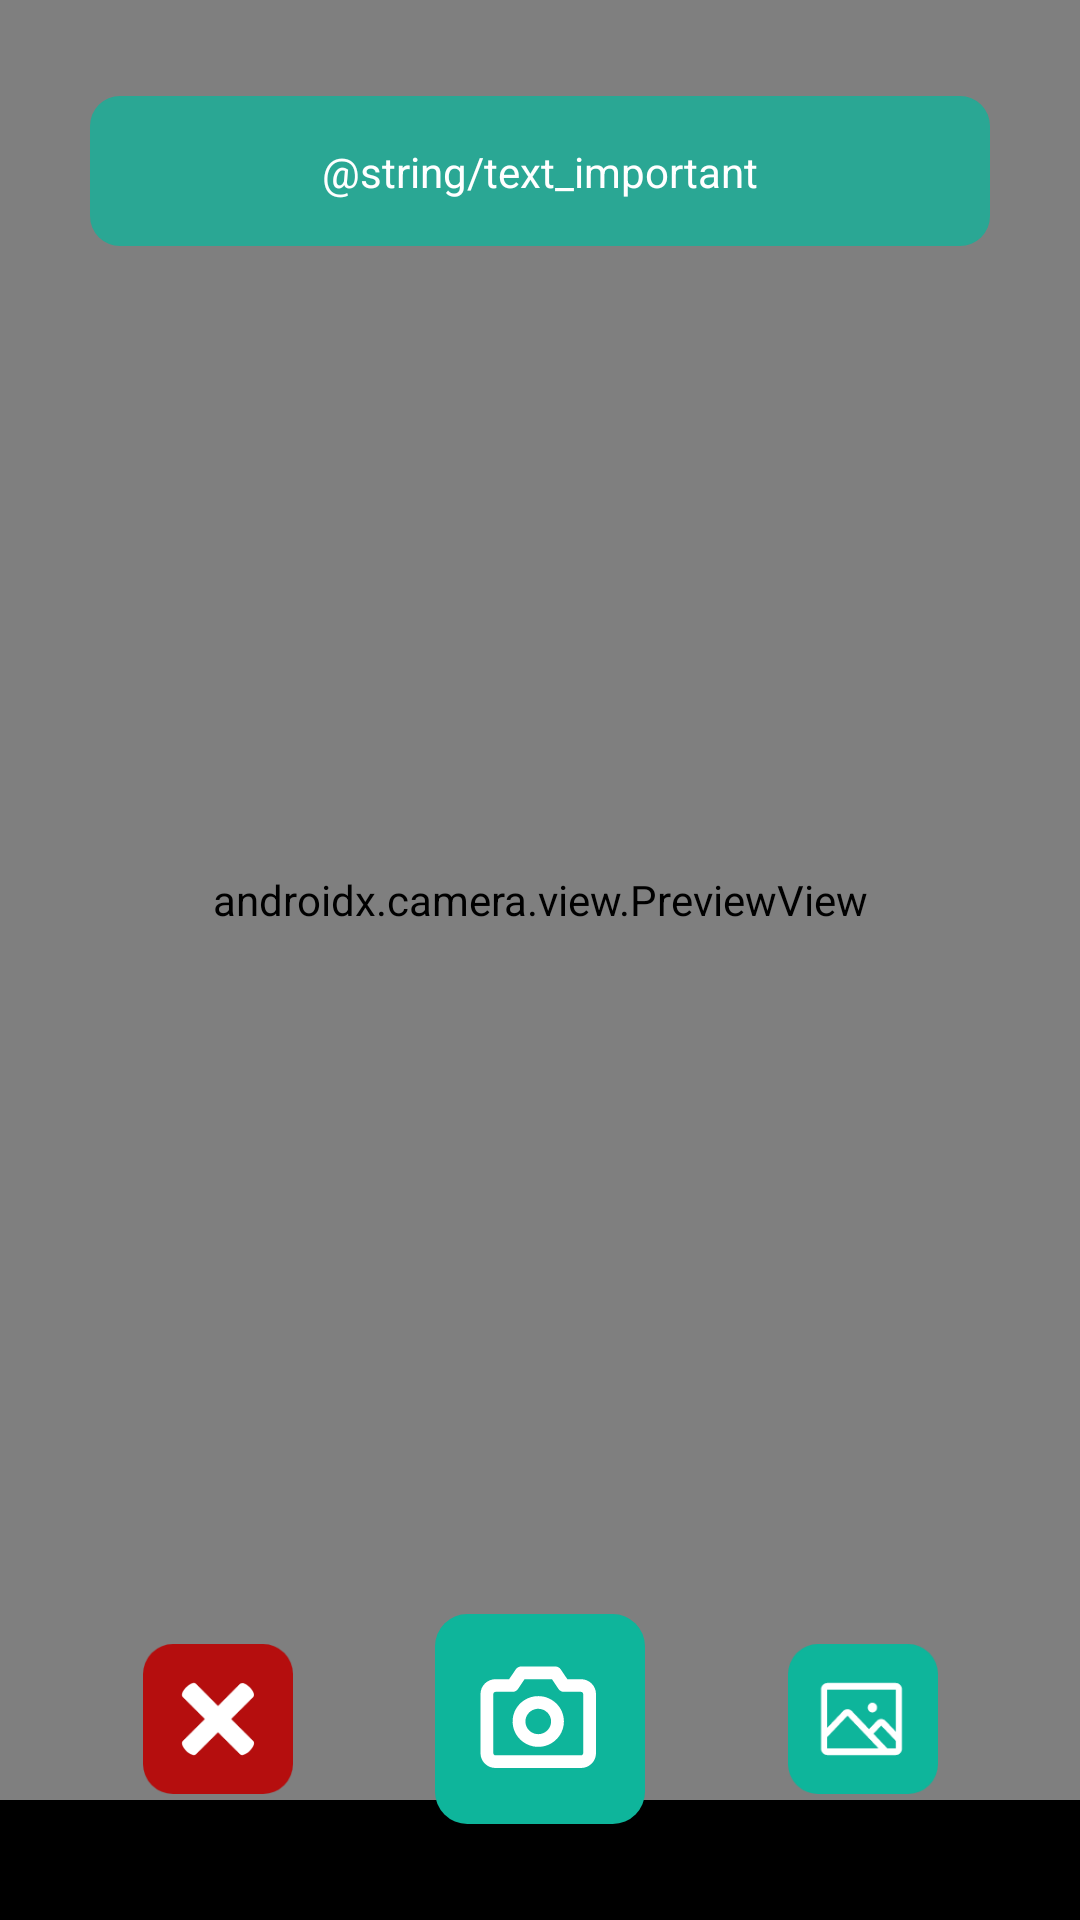

Icon bounding boxes for this 1080px x 1920px phone screenshot, format (x1=x1, y1=y1, x2=x2, y2=y2):
close: (x1=143, y1=1644, x2=293, y2=1794)
